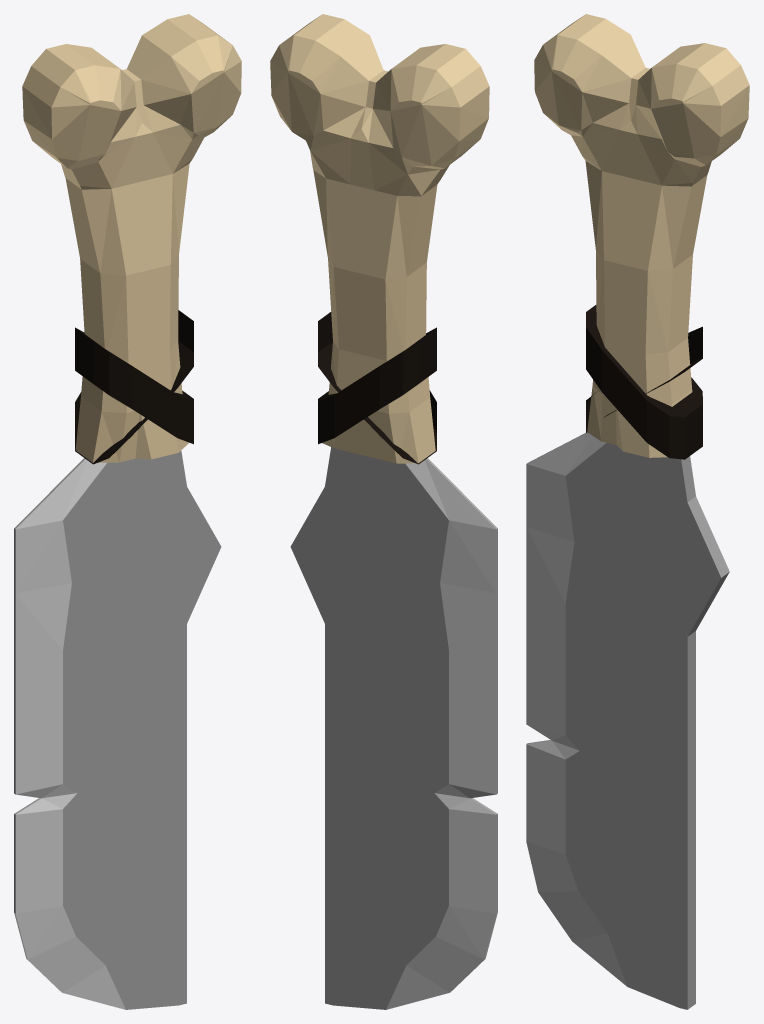
The model's file is Knife3.fbx.
3 renders of one model, left to right at view 1: azimuth 30°, elevation 25°; view 2: azimuth 150°, elevation 25°; view 3: azimuth 330°, elevation 25°, orthographic.
Parts seen in each view (by area): view 1: Куб.008; view 2: Куб.008; view 3: Куб.008.
Part boxes in pixels (box(x1,y1,x2,y2)): Куб.008: box(14, 14, 241, 1009); Куб.008: box(270, 14, 497, 1009); Куб.008: box(526, 14, 749, 1009).
Size of the model in its own units: 3.89 by 16.98 by 1.59.
